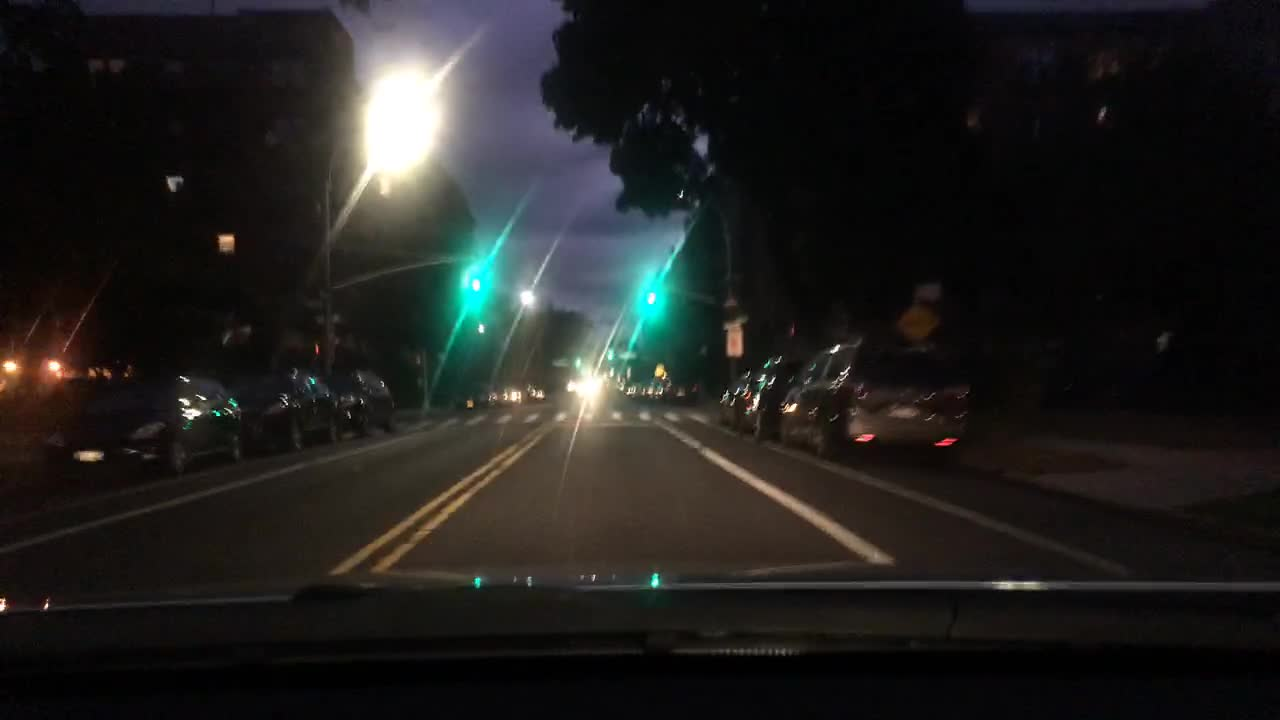car: (779, 338, 968, 464), (39, 372, 251, 479), (229, 367, 349, 458), (331, 369, 401, 435), (742, 361, 807, 430), (721, 372, 761, 430), (455, 378, 497, 412), (564, 375, 601, 399), (662, 379, 695, 405), (500, 382, 527, 405), (487, 381, 507, 405), (524, 381, 546, 402), (638, 381, 658, 398), (624, 382, 641, 396), (613, 379, 626, 390)
traffic light: (469, 260, 480, 295), (644, 281, 656, 310), (604, 342, 616, 361), (576, 353, 583, 372)
traffic sign: (899, 304, 936, 341), (718, 313, 748, 329), (911, 283, 940, 299), (725, 332, 744, 355), (217, 230, 234, 255), (312, 310, 340, 322), (619, 349, 635, 361)
